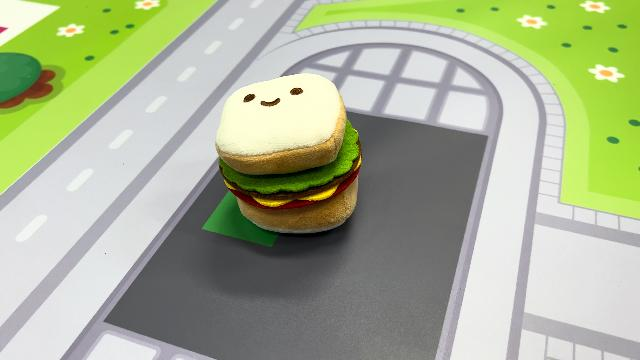sandwich: (213, 70, 364, 236)
